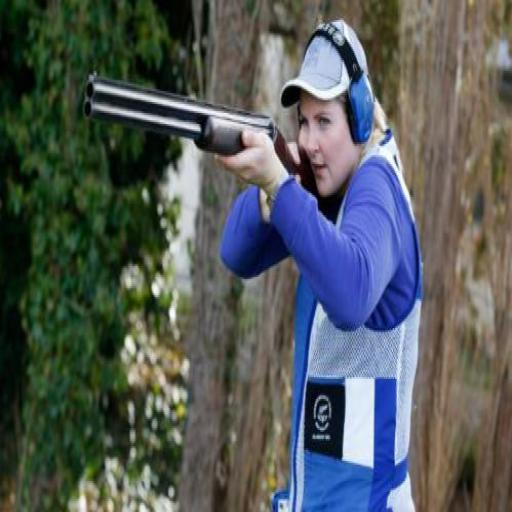shooting: (214, 16, 427, 510)
